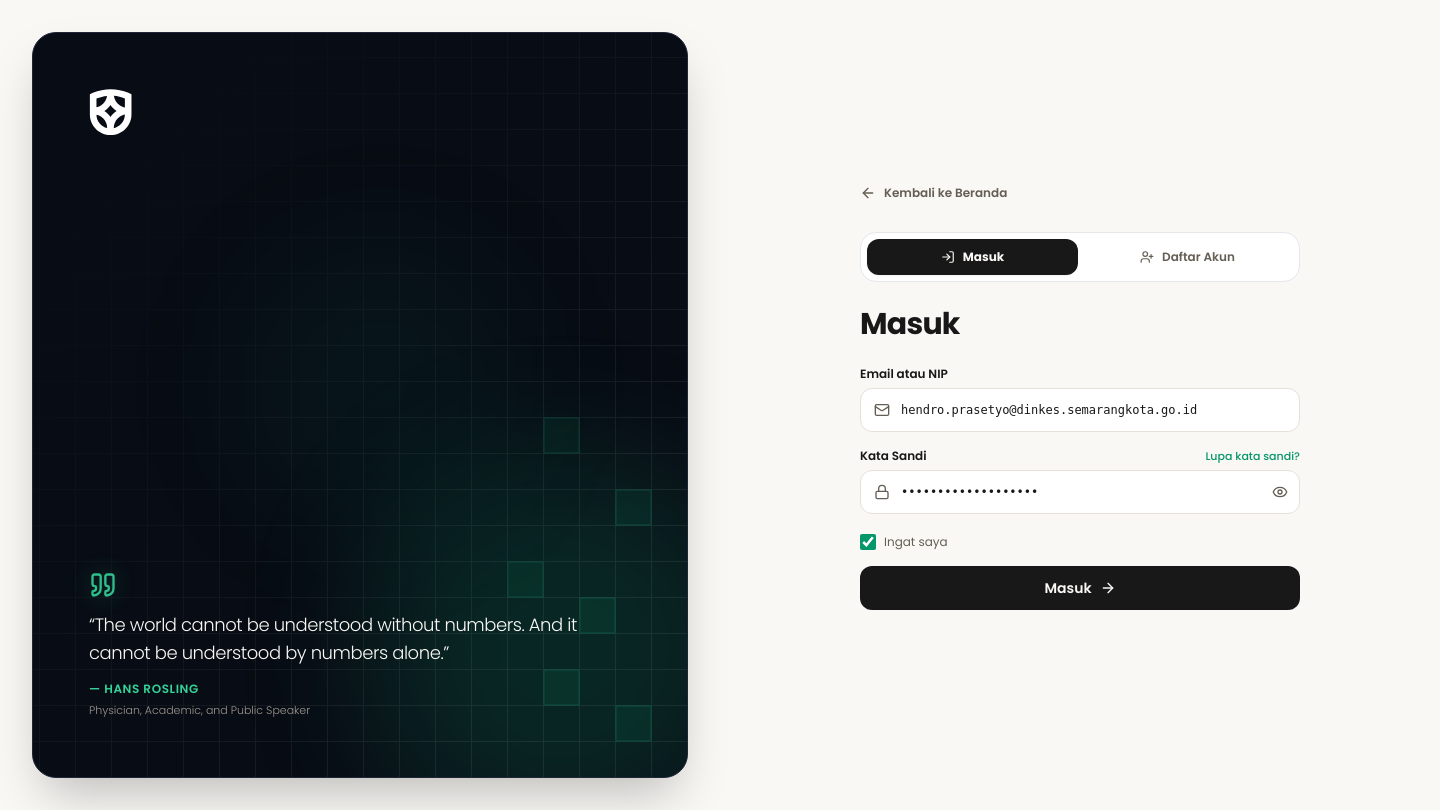
Test case: Login Page (/login and src/app/login/page.tsx) › handles login submission with authorized account
Click the button "Masuk" below "Ingat saya": (1080, 588) x1=860 y1=566 x2=1300 y2=610
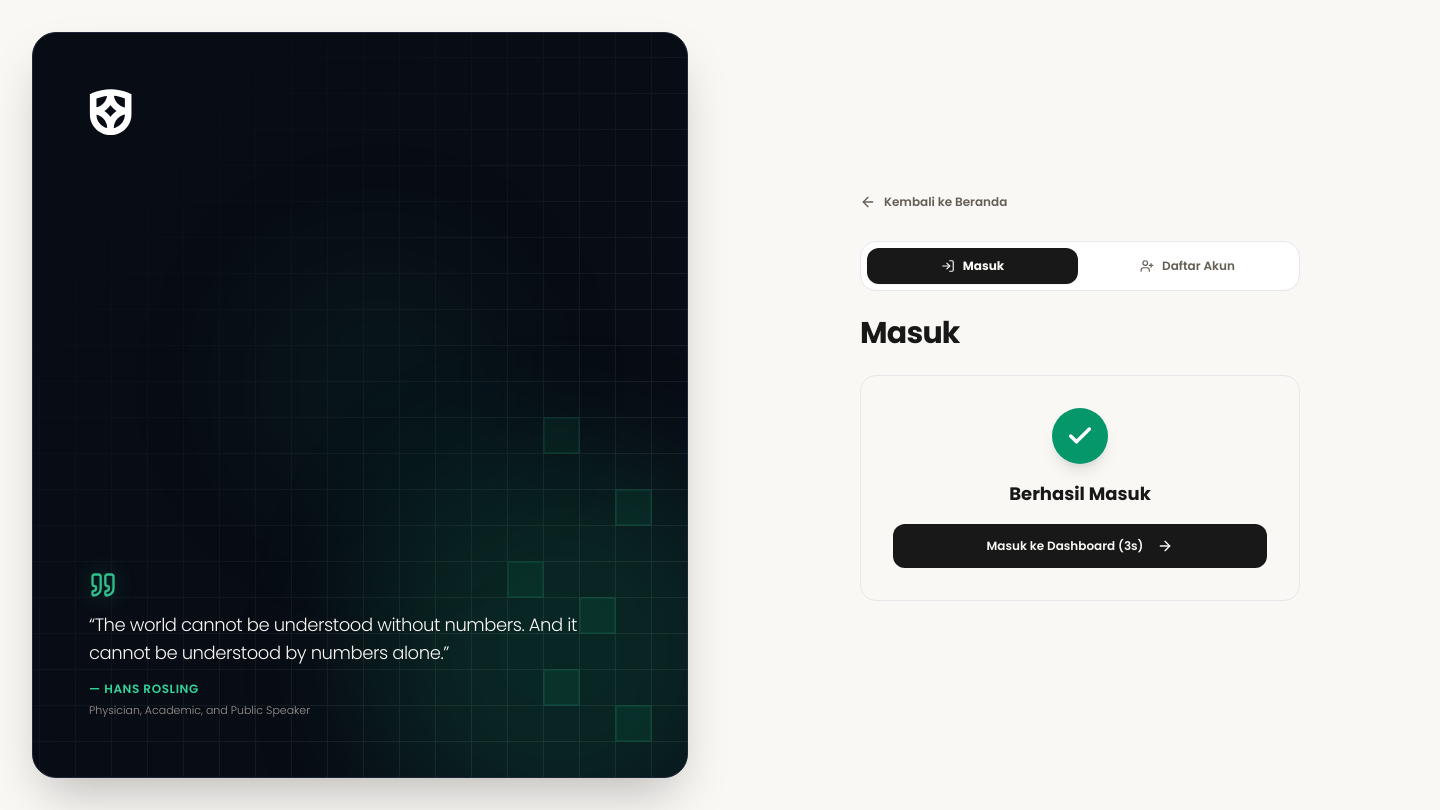
Expected: the heading "Berhasil Masuk" is shown, x1=1009 y1=481 x2=1151 y2=506
